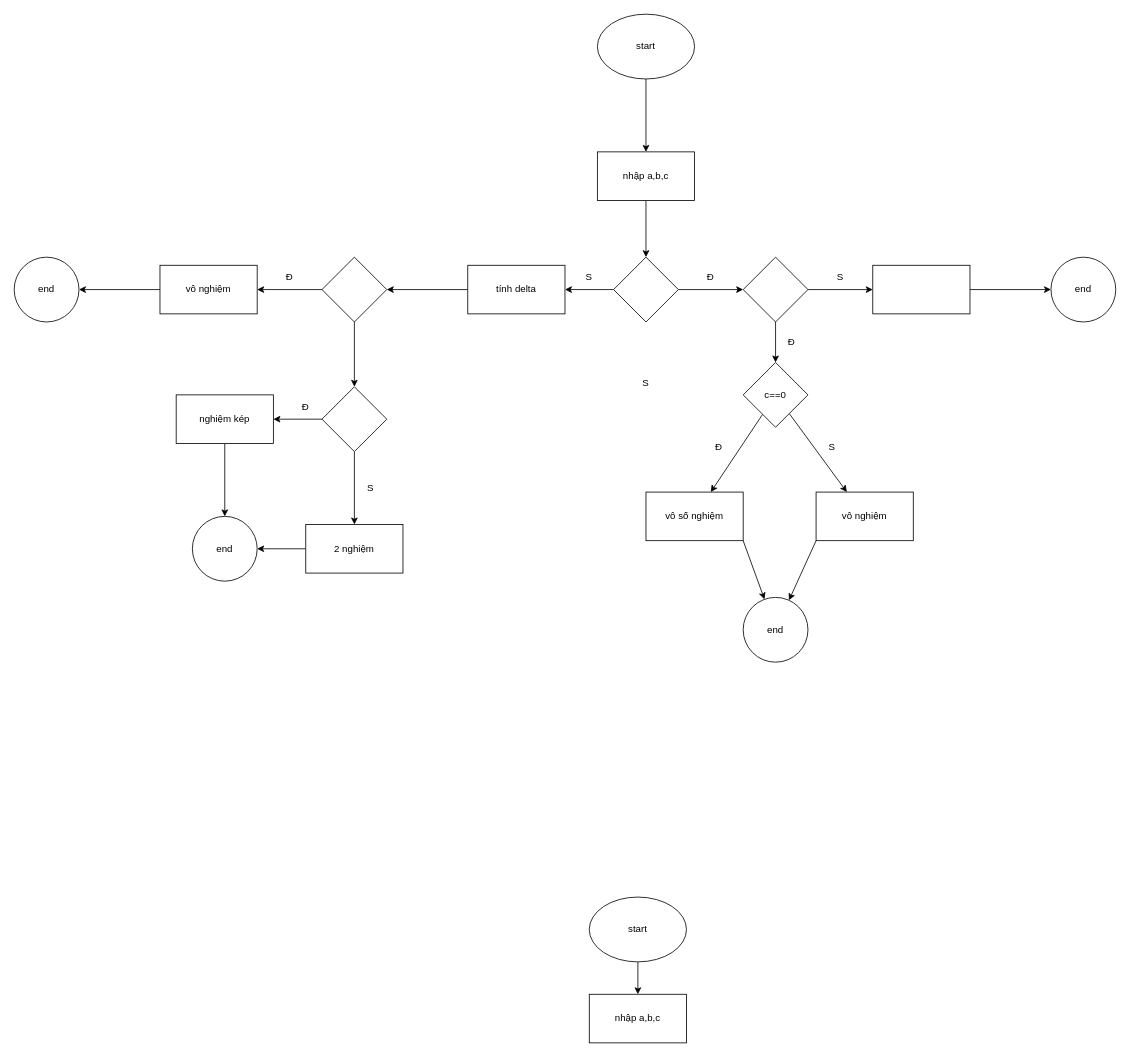
Image size: 1130x1057. Some labels were removed from this diagram. The shapes that lost their labels are listed below. From the top down, each one's box as (x1, y1, x2, y2) in pixels, then its label:
(321, 256, 387, 322): delta<0
(613, 256, 678, 322): xét a==0
(742, 256, 808, 322): xét b==0
(872, 264, 970, 314): tính x= -c/b
(321, 386, 387, 452): delta ==0
